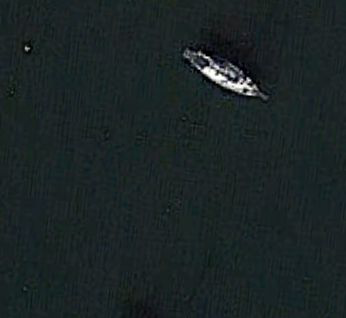boat: (179, 47, 266, 100)
